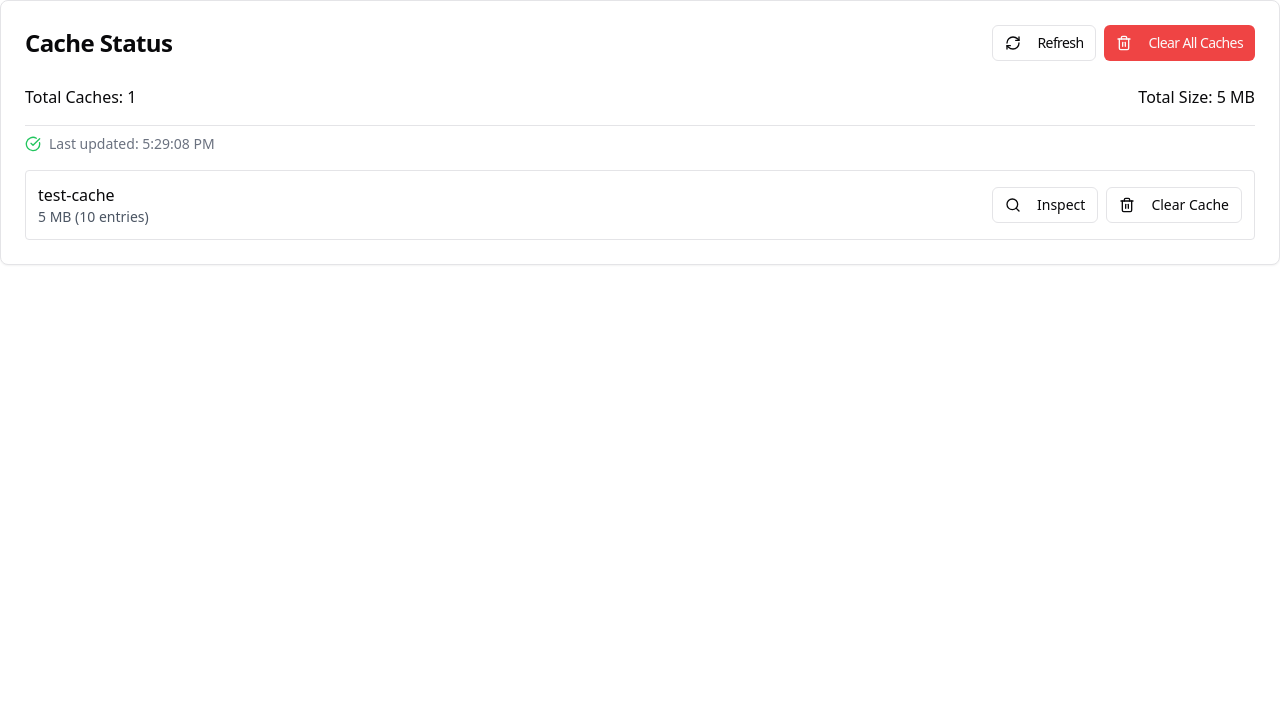
Scenario: CacheManager Component › Cache Management Actions › should clear all caches when clear button is clicked
Expected: the text "Total Caches: 1" is shown, [25,85,136,109]
Click the button "Clear All Caches" at (1180, 43), box [1104,25,1255,61]
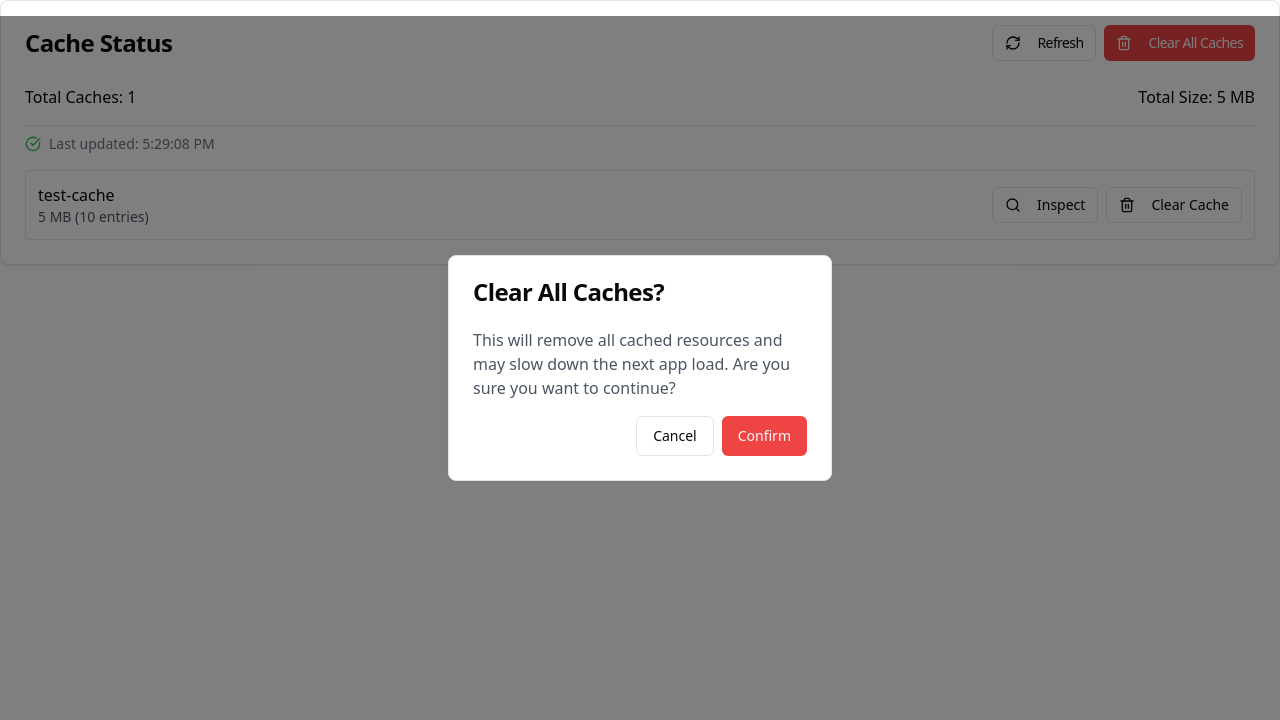
Click the button "Confirm" at (764, 436), box [722,416,807,456]
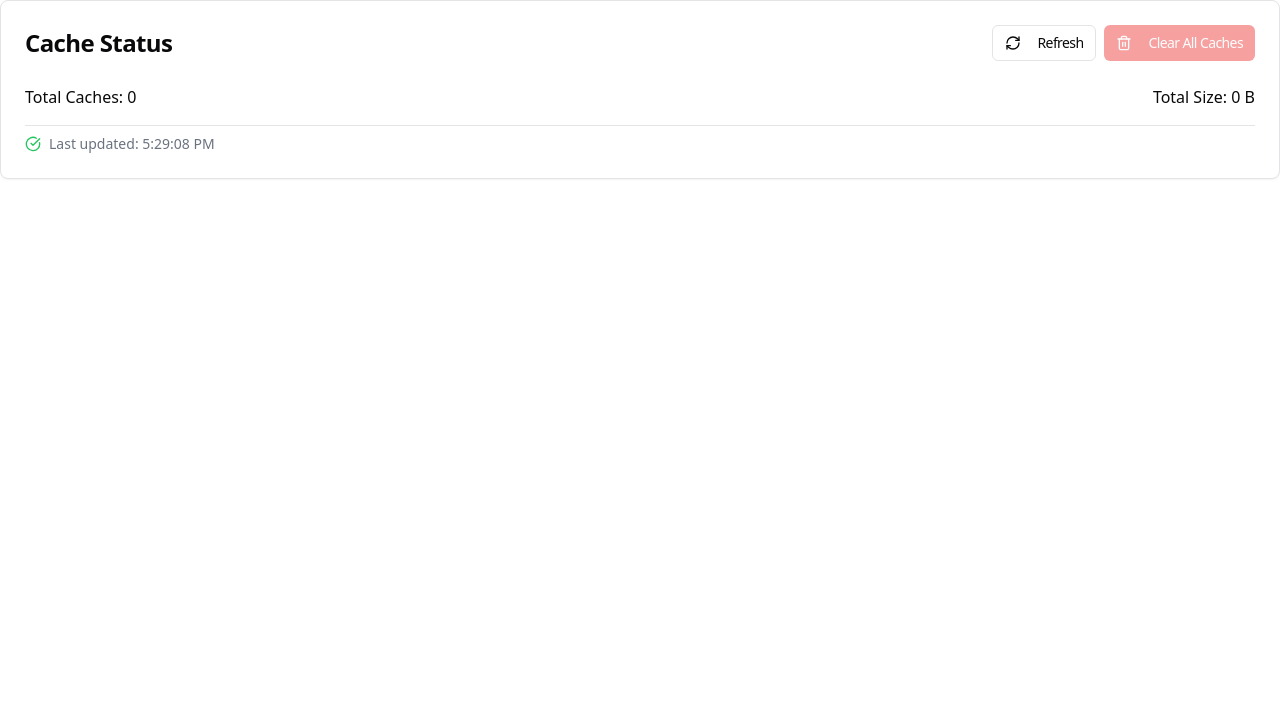
Expected: the text "Total Caches: 0" is shown, [25,85,136,109]
